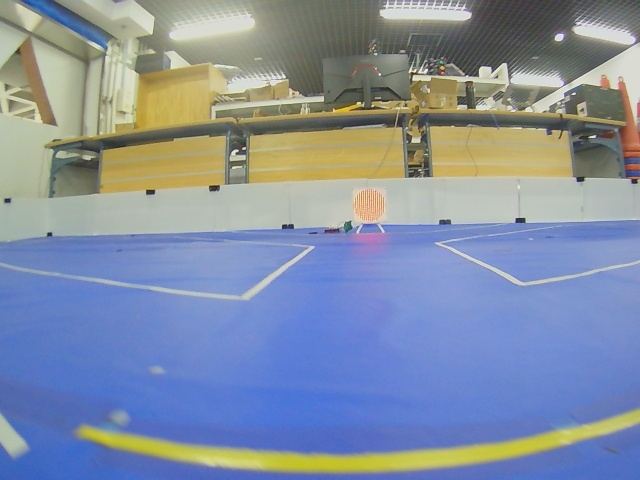red: (353, 188, 386, 223)
